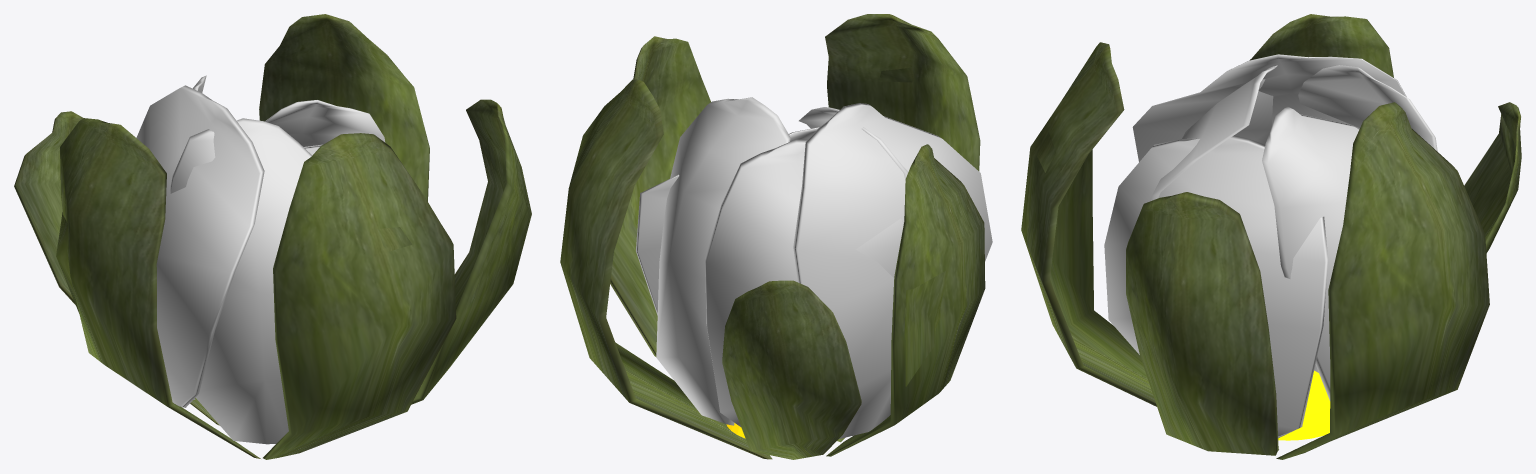
The picture shows the model from 3 angles, left to right: view 1: azimuth 30°, elevation 25°; view 2: azimuth 150°, elevation 25°; view 3: azimuth 270°, elevation 25°; orthographic projection. The views are drawn at different scales.
Visible parts, largest first — view 1: calyx1_001.001, calyx1_001.012, calyx1_001.005, calyx1_001.003, calyx1_001.002, calyx1_001.004; view 2: calyx1_001.012, calyx1_001.003, calyx1_001.004, calyx1_001.005, calyx1_001.001, calyx1_001.002; view 3: calyx1_001.012, calyx1_001.003, calyx1_001.002, calyx1_001.001, calyx1_001.005, calyx1_001.004, Sphere.001.
Part boxes in pixels (x1=…): calyx1_001.001: x1=263, y1=133, x2=456, y2=459; calyx1_001.012: x1=136, y1=75, x2=385, y2=444; calyx1_001.005: x1=56, y1=118, x2=260, y2=458; calyx1_001.003: x1=259, y1=14, x2=429, y2=201; calyx1_001.002: x1=411, y1=99, x2=531, y2=404; calyx1_001.004: x1=14, y1=111, x2=219, y2=425; calyx1_001.012: x1=636, y1=97, x2=992, y2=438; calyx1_001.003: x1=560, y1=78, x2=772, y2=459; calyx1_001.004: x1=722, y1=280, x2=861, y2=459; calyx1_001.005: x1=826, y1=144, x2=985, y2=456; calyx1_001.001: x1=825, y1=14, x2=980, y2=442; calyx1_001.002: x1=610, y1=36, x2=710, y2=356; calyx1_001.012: x1=1104, y1=54, x2=1437, y2=438; calyx1_001.003: x1=1276, y1=102, x2=1489, y2=459; calyx1_001.002: x1=1126, y1=192, x2=1278, y2=455; calyx1_001.001: x1=1021, y1=42, x2=1156, y2=406; calyx1_001.005: x1=1250, y1=14, x2=1393, y2=77; calyx1_001.004: x1=1464, y1=102, x2=1521, y2=253; Sphere.001: x1=1278, y1=370, x2=1330, y2=440.
Bounding box in the file's own units: 0.0305 × 0.0316 × 0.027.
2 materials, 1 textured.
